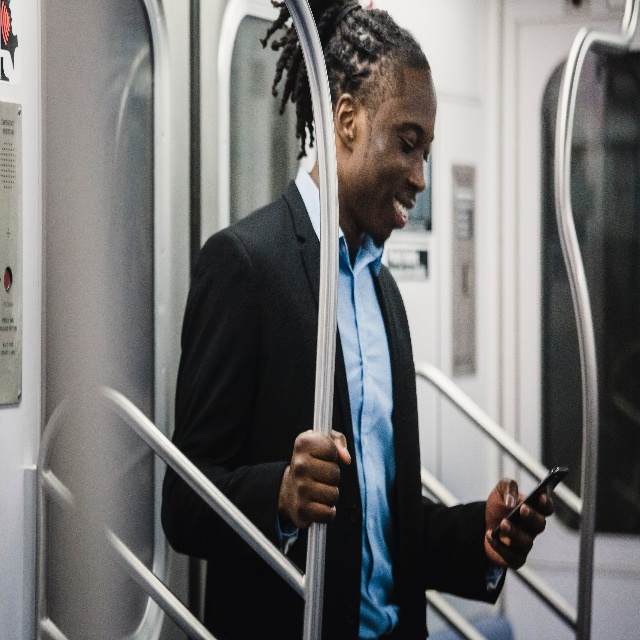Sin_guantes: (485, 472, 555, 573), (289, 431, 352, 524)
